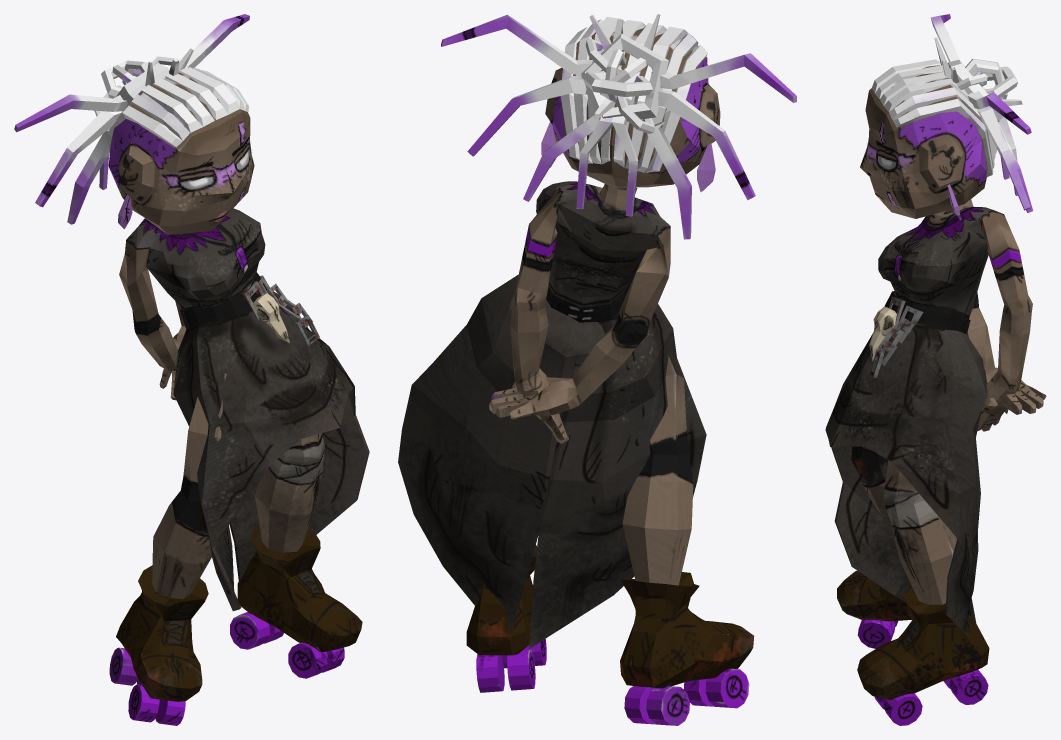
Rendered from bruja_000029.obj.
The picture shows the model from 3 angles, left to right: view 1: azimuth 30°, elevation 25°; view 2: azimuth 150°, elevation 25°; view 3: azimuth 270°, elevation 25°; orthographic projection. The views are drawn at different scales.
Visible parts, largest first — view 1: Bruja_Plane.001; view 2: Bruja_Plane.001; view 3: Bruja_Plane.001.
Part boxes in pixels (bbox=[...]): Bruja_Plane.001: bbox=[14, 14, 369, 725]; Bruja_Plane.001: bbox=[398, 14, 796, 725]; Bruja_Plane.001: bbox=[825, 14, 1046, 725].
Bounding box in the file's own units: 9.29 × 15.98 × 5.21.
